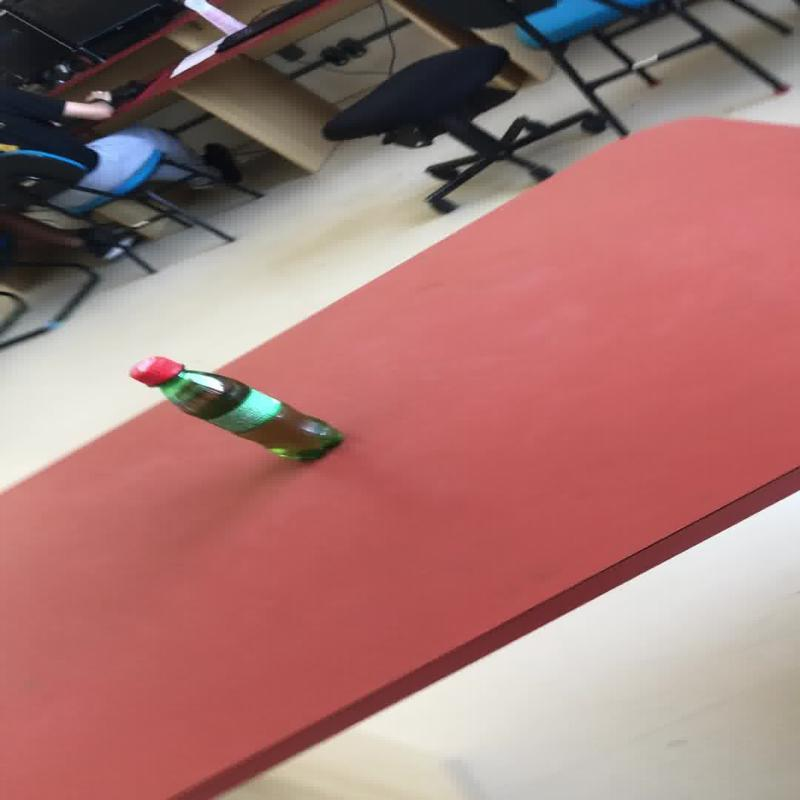guarana: (126, 354, 344, 462)
